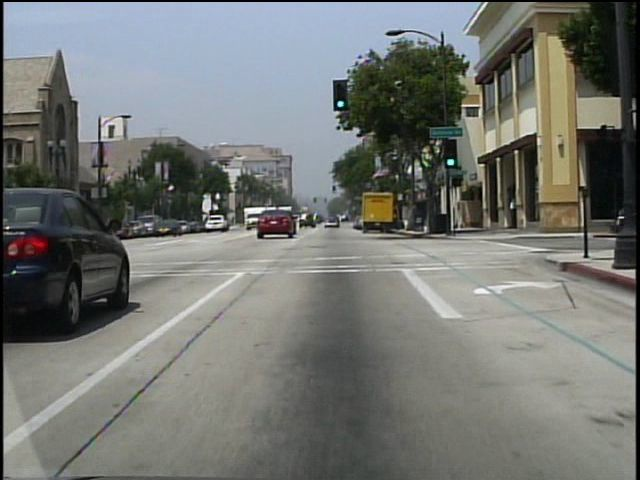person: (507, 195, 515, 229)
